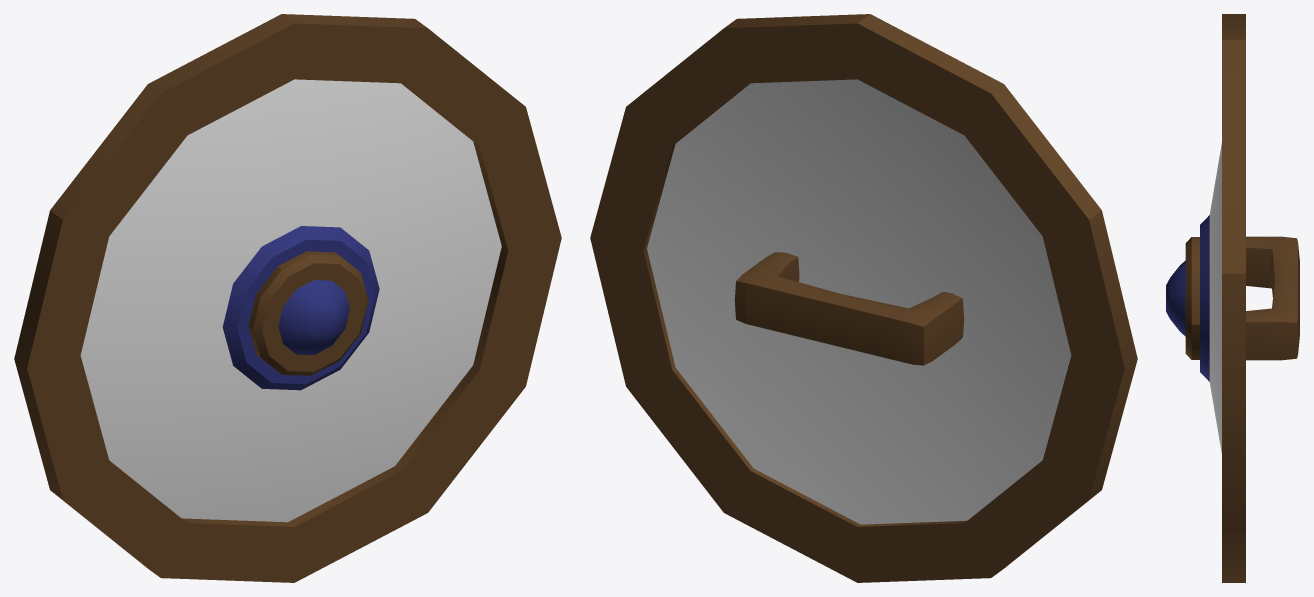
The model's file is Shield.fbx.
3 views of the same model, side by side, from view 1: azimuth 30°, elevation 25°; view 2: azimuth 150°, elevation 25°; view 3: azimuth 270°, elevation 25° (orthographic). The views are drawn at different scales.
Visible parts, largest first — view 1: Shield; view 2: Shield; view 3: Shield.
Part boxes in pixels (bbox=[...]): Shield: bbox=[14, 14, 561, 582]; Shield: bbox=[590, 14, 1137, 582]; Shield: bbox=[1166, 14, 1299, 582].
Size of the model in its own units: 70.07 by 70.07 by 16.42.
